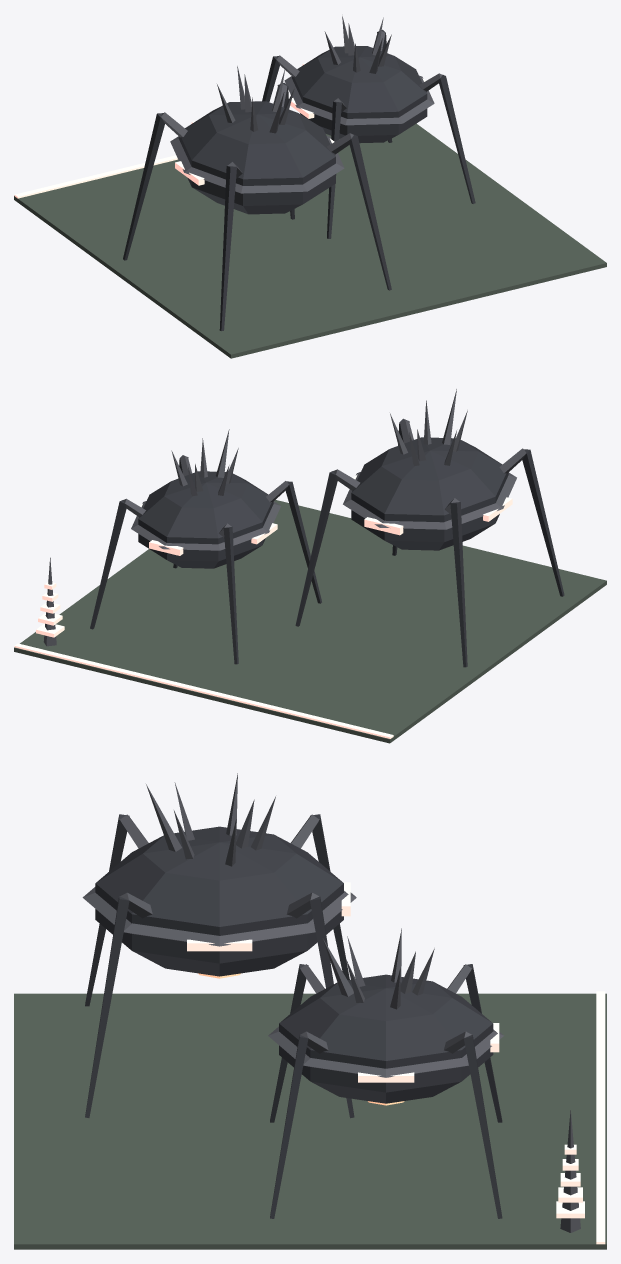
The model's file is zone_low_5_t5.glb.
The picture shows the model from 3 angles, top to bottom: view 1: azimuth 30°, elevation 25°; view 2: azimuth 150°, elevation 25°; view 3: azimuth 270°, elevation 25°; orthographic projection. The views are drawn at different scales.
Parts seen in each view (by area): view 1: zone_low_5_t5, detail; view 2: zone_low_5_t5, detail; view 3: zone_low_5_t5, detail.
Part boxes in pixels (x1,y1,x2,y2): zone_low_5_t5: (14,29,606,358); detail: (14,16,425,198); zone_low_5_t5: (14,418,606,743); detail: (14,389,512,738); zone_low_5_t5: (14,814,606,1249); detail: (146,773,605,1244).
Bounding box in the file's own units: 19.6 × 10.35 × 19.6.
